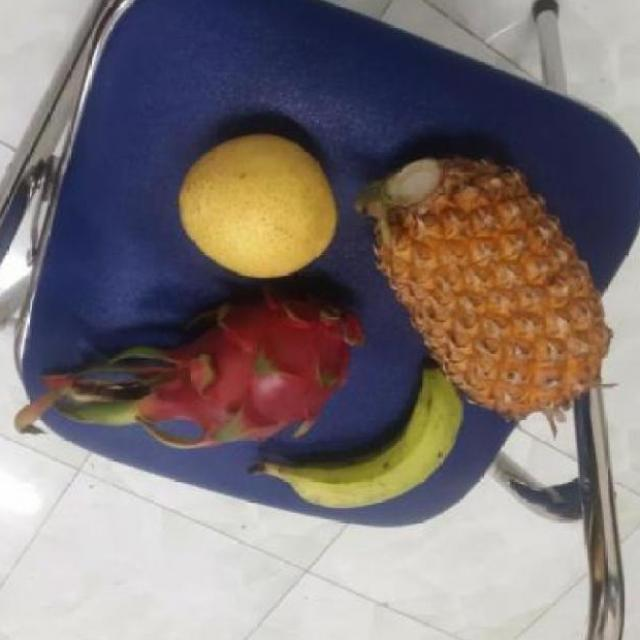banana: (276, 359, 468, 511)
dragon fruit: (138, 281, 376, 449)
pear: (178, 126, 342, 272)
pineapple: (364, 152, 616, 418)
